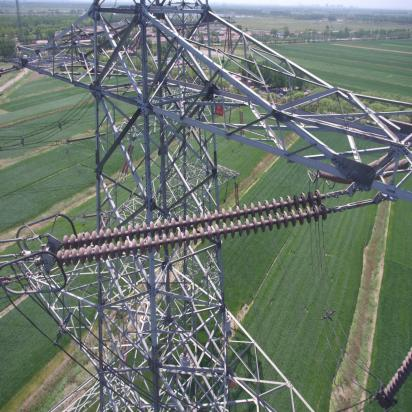insulator: (52, 187, 344, 270)
